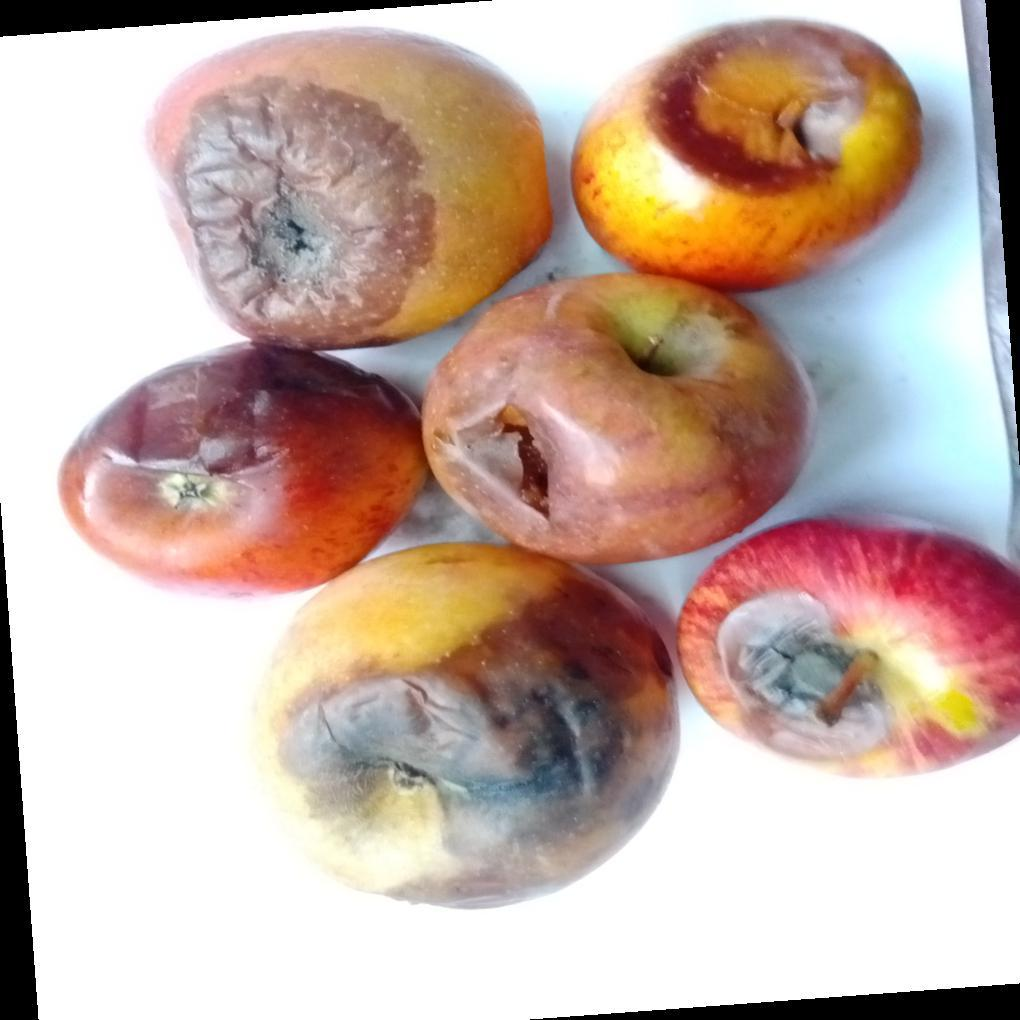FreshOrange: (57, 17, 1020, 781)
